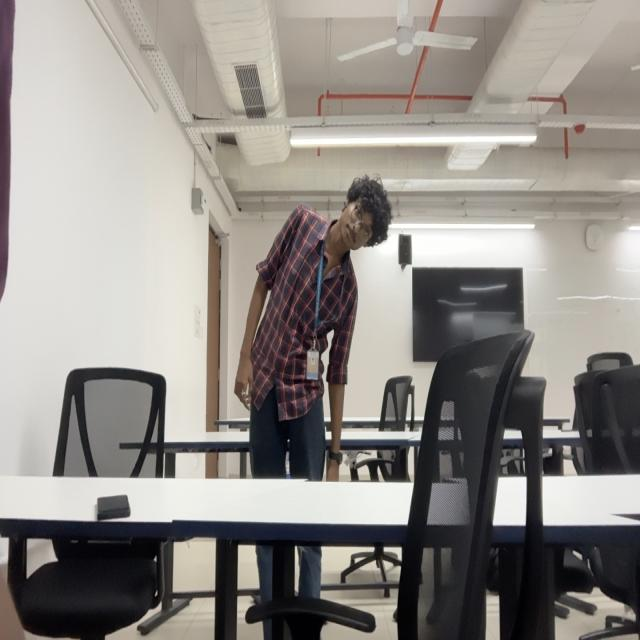darshan: (336, 171, 391, 255)
